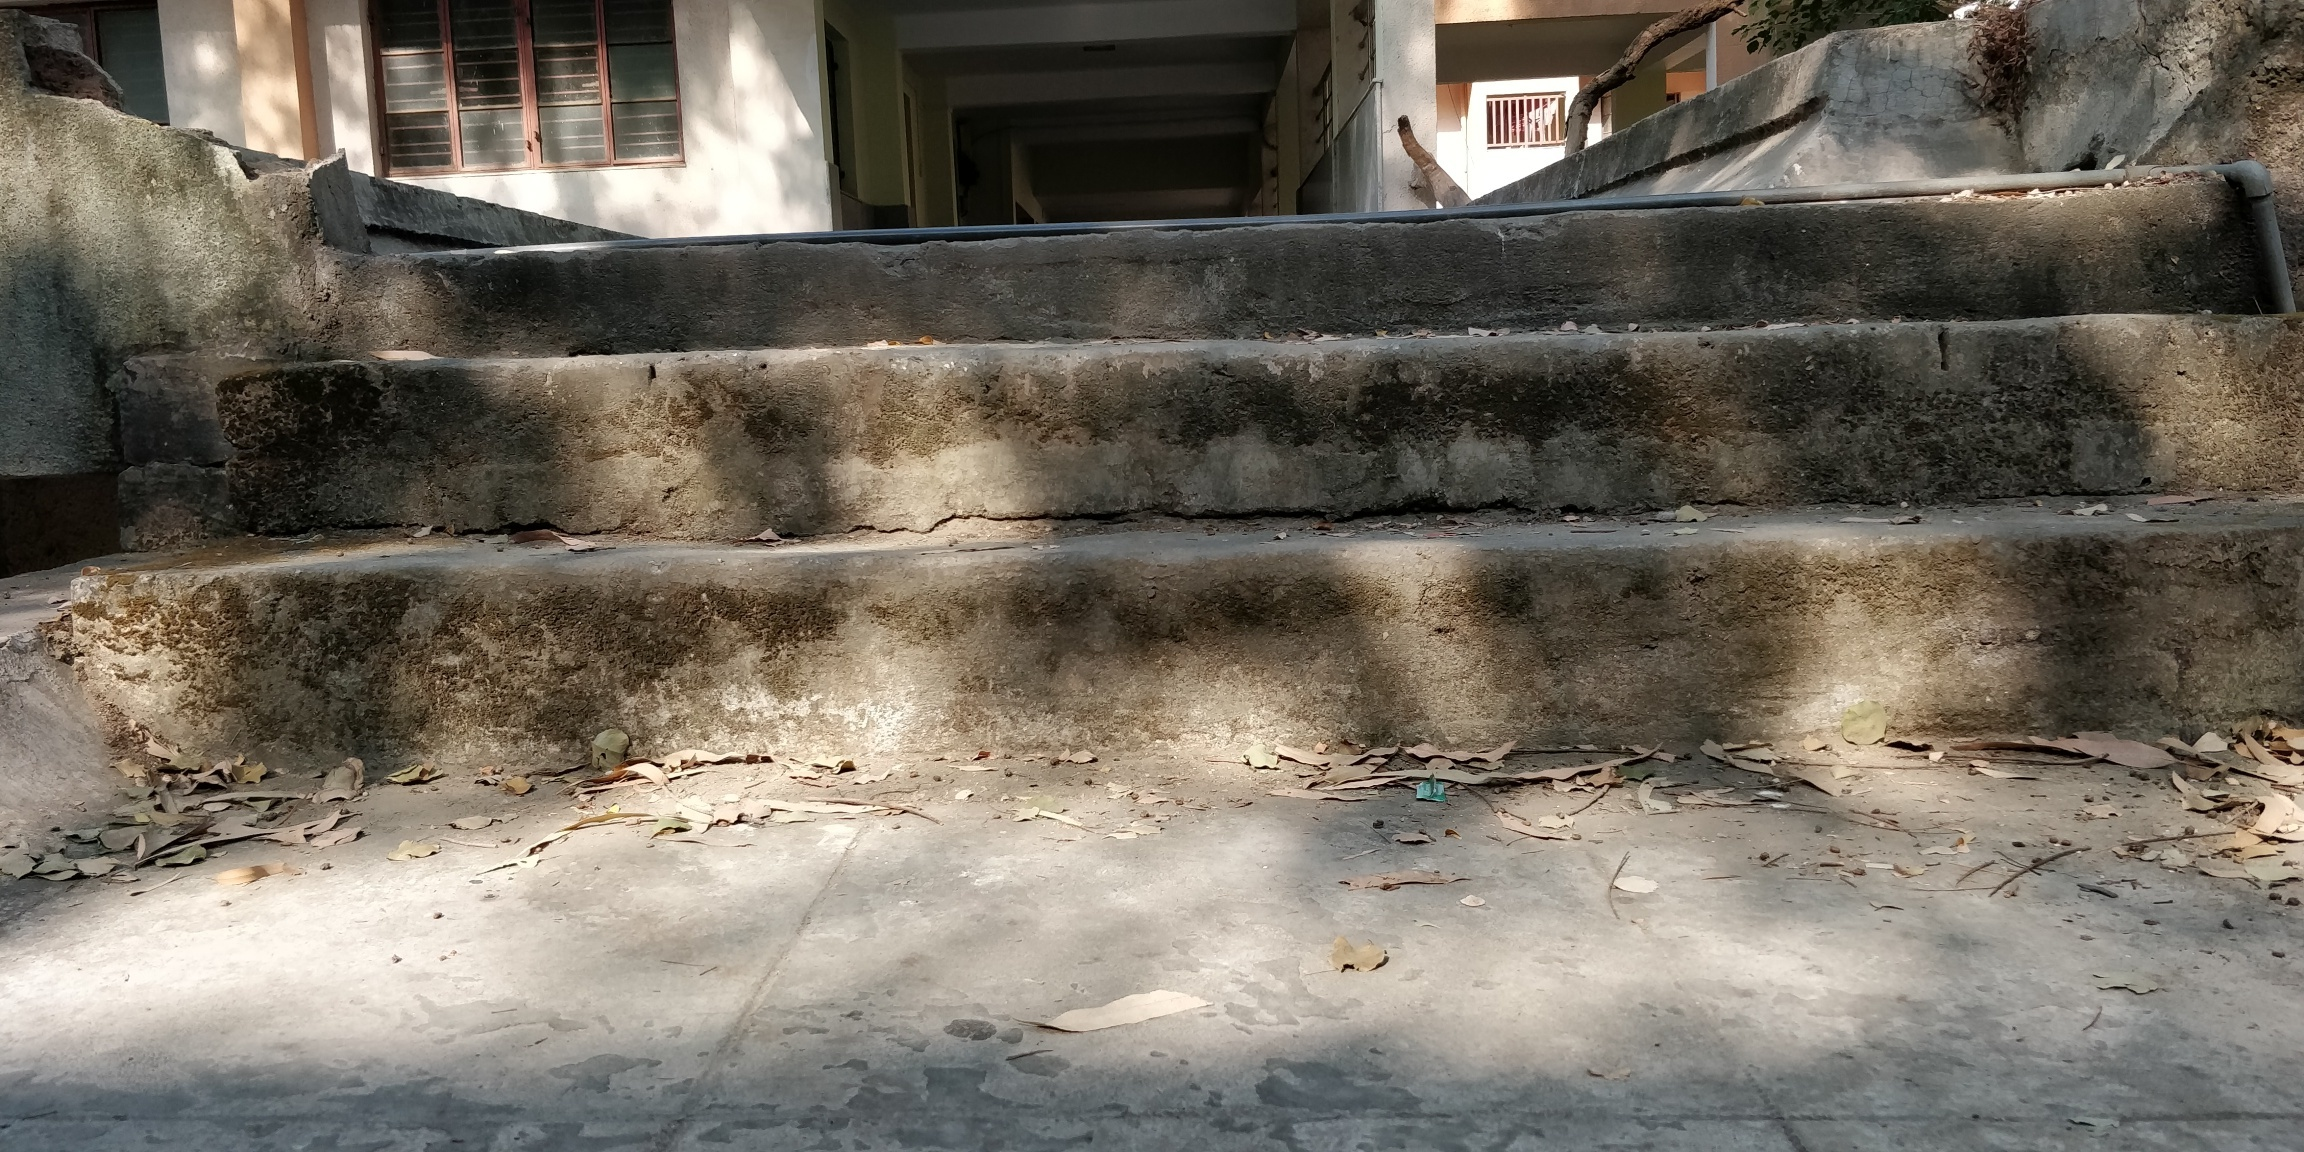stairs_up: (156, 232, 2304, 793)
